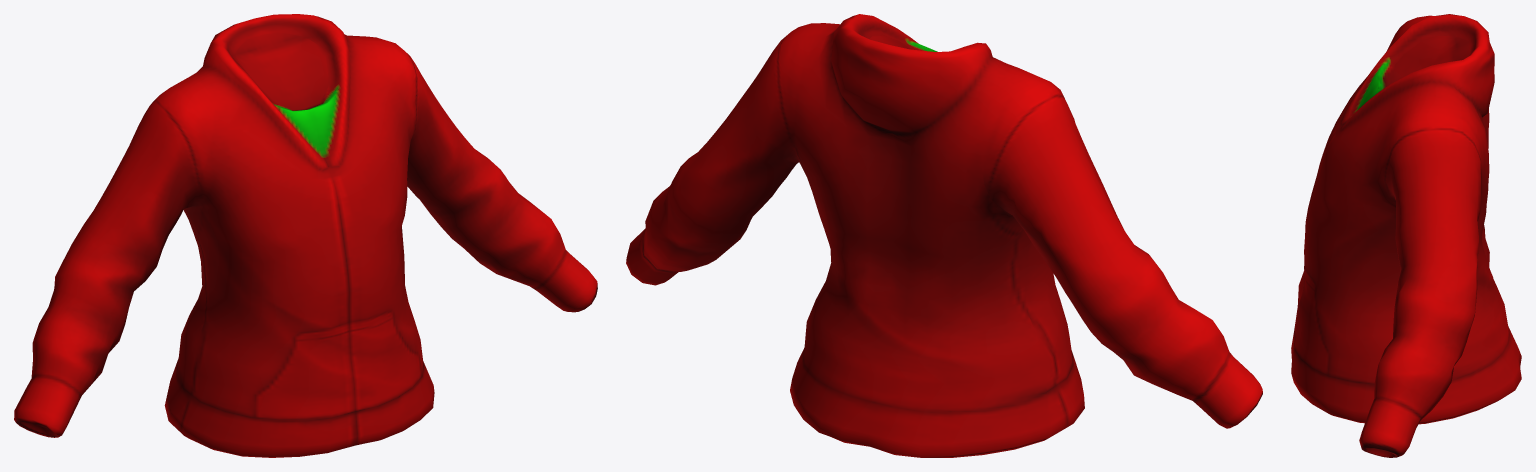
Rendered from Top_LabourHoodie.obj.
3 renders of one model, left to right at view 1: azimuth 30°, elevation 25°; view 2: azimuth 150°, elevation 25°; view 3: azimuth 270°, elevation 25°, orthographic. The views are drawn at different scales.
Visible parts, largest first — view 1: Top_LabourHoodie_0; view 2: Top_LabourHoodie_0; view 3: Top_LabourHoodie_0.
Part boxes in pixels (x1,y1,x2,y2): Top_LabourHoodie_0: (14, 14, 597, 457); Top_LabourHoodie_0: (626, 14, 1262, 457); Top_LabourHoodie_0: (1291, 14, 1521, 457).
Bounding box in the file's own units: 0.9039 × 0.5381 × 0.3337.
1 material, 1 textured.
